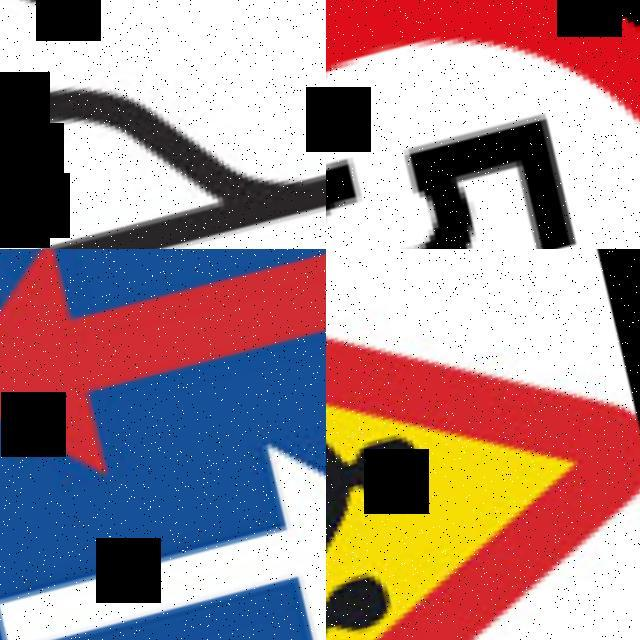132: (326, 249, 640, 640)
71: (0, 0, 326, 249)
Priority over oncoming vehicles: (0, 249, 326, 640)
speed limit-50: (326, 0, 640, 249)
